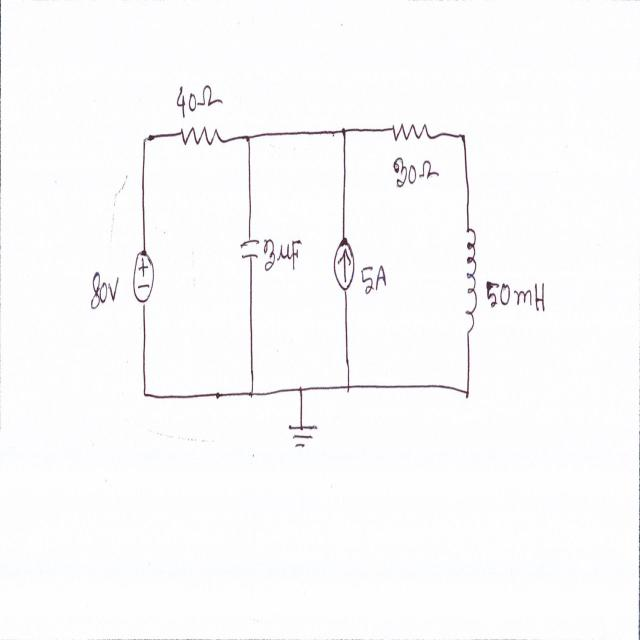capacitor: (236, 236, 262, 262)
current_source: (330, 232, 356, 293)
ground: (288, 415, 320, 462)
inductor: (461, 218, 482, 338)
resistor: (391, 112, 434, 150), (177, 122, 226, 154)
voltage_source: (131, 243, 156, 307)
